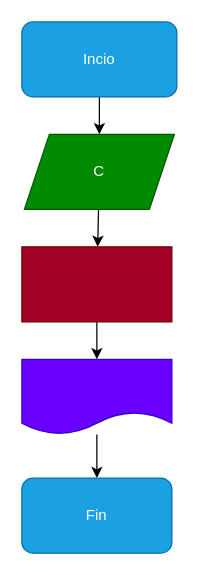
The diagram is 199 pixels wide and 575 high, and some of its shapes have lost their labels. The shapes that lost their labels are listed below. From the top down, each one's centre as x and y in pixels, then its label:
(x=96, y=284): F = 9/5 C + 32 K = 273.15 +C
(x=96, y=396): F , K
